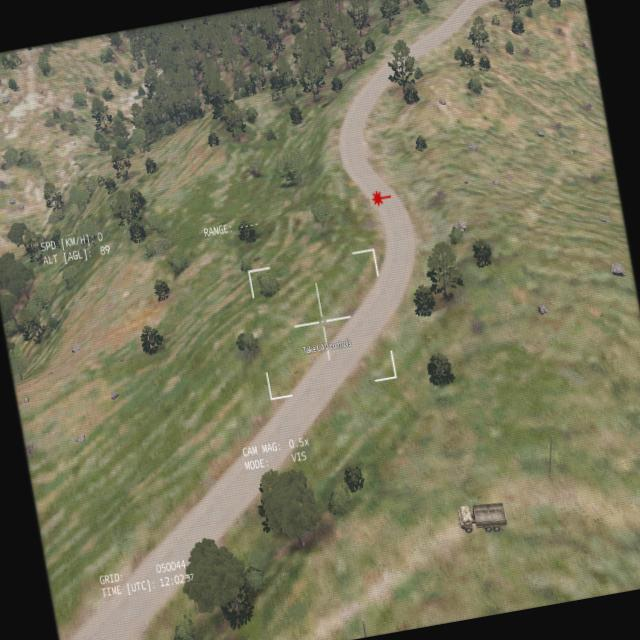truck: (454, 496, 508, 539)
